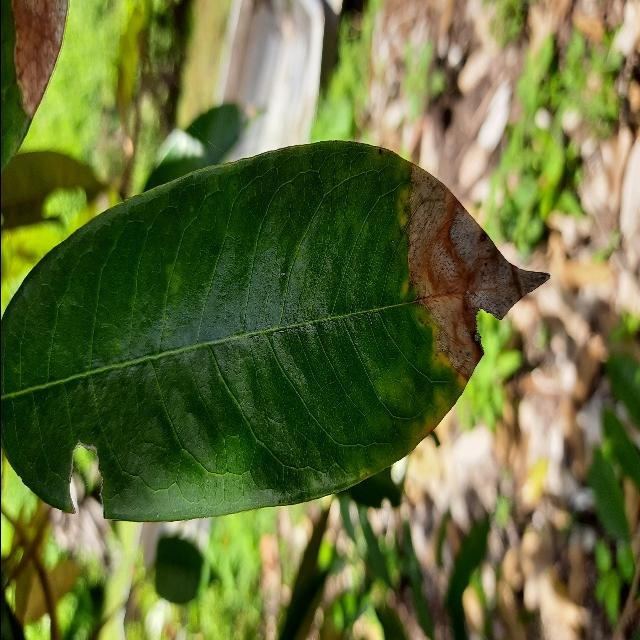Leaf Blight: (0, 134, 558, 531)
